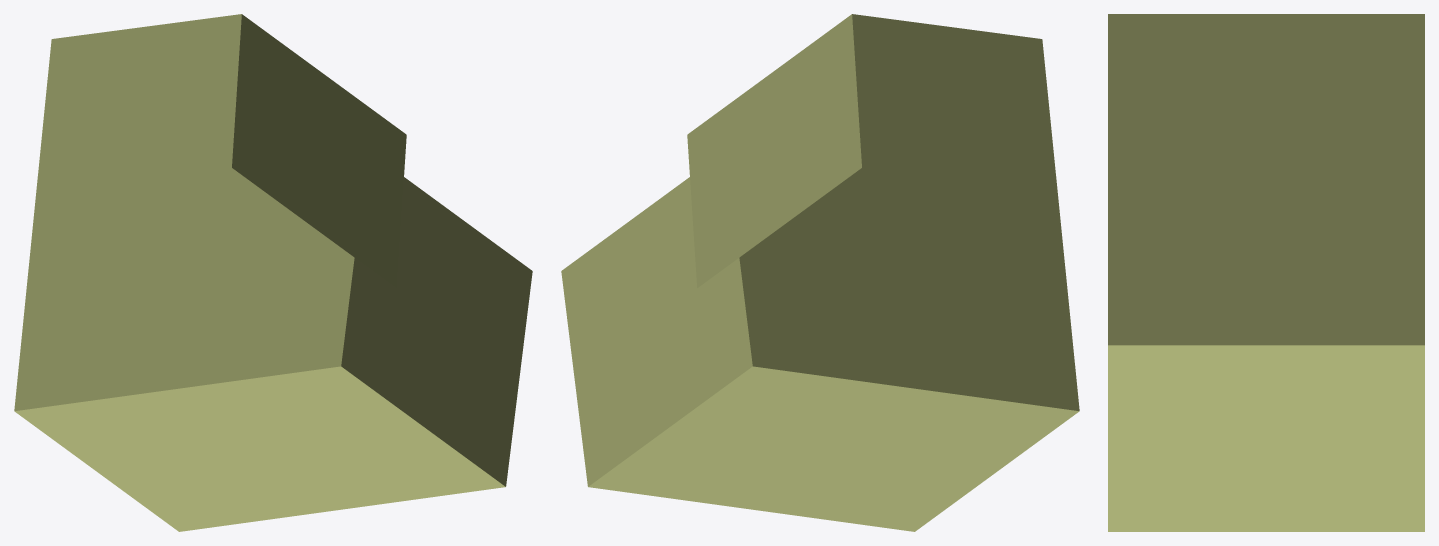
3 renders of one model, left to right at view 1: azimuth 30°, elevation 25°; view 2: azimuth 150°, elevation 25°; view 3: azimuth 270°, elevation 25°, orthographic. The views are drawn at different scales.
Visible parts, largest first — view 1: 0_1_0_0_2_2_1_3_1_3; view 2: 0_1_0_0_2_2_1_3_1_3; view 3: 0_1_0_0_2_2_1_3_1_3.
Part boxes in pixels (<box>): 0_1_0_0_2_2_1_3_1_3: <box>14,14,532,531</box>; 0_1_0_0_2_2_1_3_1_3: <box>561,14,1079,531</box>; 0_1_0_0_2_2_1_3_1_3: <box>1108,14,1424,531</box>.
Bounding box in the file's own units: 7.43 × 7.99 × 6.
